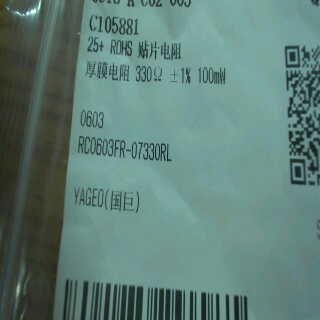330R: (132, 64, 164, 85)
